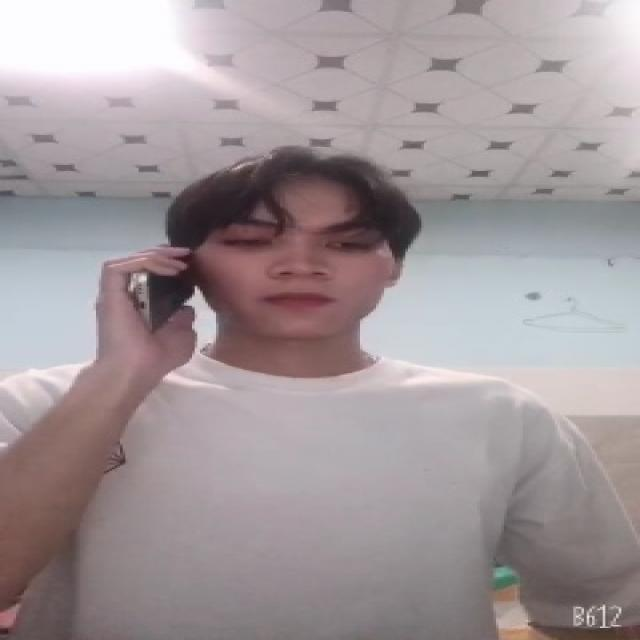Phone: (131, 238, 203, 338)
